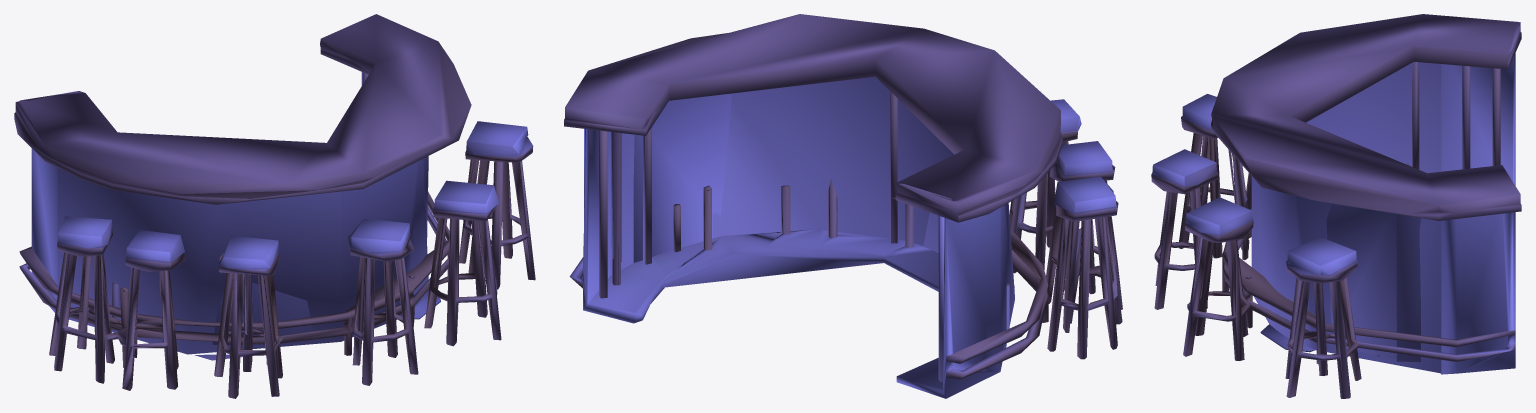
The model's file is model.progressive.glb.
The picture shows the model from 3 angles, left to right: view 1: azimuth 30°, elevation 25°; view 2: azimuth 150°, elevation 25°; view 3: azimuth 270°, elevation 25°; orthographic projection. The views are drawn at different scales.
Visible parts, largest first — view 1: mesh_input; view 2: mesh_input; view 3: mesh_input.
Part boxes in pixels (box(x1,y1,x2,y2)): mesh_input: box(14, 14, 535, 398); mesh_input: box(564, 14, 1122, 398); mesh_input: box(1151, 14, 1521, 398).
Size of the model in its own units: 1.9 by 0.7407 by 1.34.
1 material, 1 textured.
